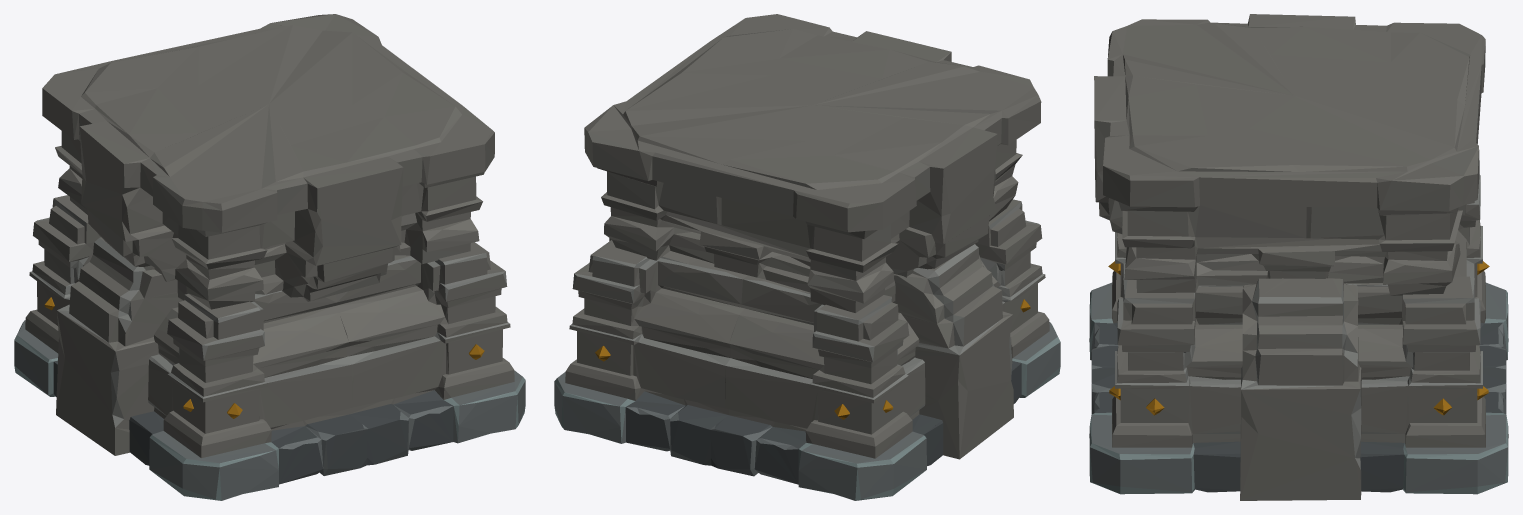
The model's file is MDungeons_PillarBase_Med_01.FBX.
3 views of the same model, side by side, from view 1: azimuth 30°, elevation 25°; view 2: azimuth 150°, elevation 25°; view 3: azimuth 270°, elevation 25° (orthographic). The views are drawn at different scales.
Visible parts, largest first — view 1: MDungeons_PillarBase_Med_01_LOD0; view 2: MDungeons_PillarBase_Med_01_LOD0; view 3: MDungeons_PillarBase_Med_01_LOD0.
Part boxes in pixels (x1,y1,x2,y2): MDungeons_PillarBase_Med_01_LOD0: (14,14,525,500); MDungeons_PillarBase_Med_01_LOD0: (554,14,1060,500); MDungeons_PillarBase_Med_01_LOD0: (1089,14,1508,500).
Size of what is drawn, in the model's own units: 6.4 by 4.88 by 5.94.
